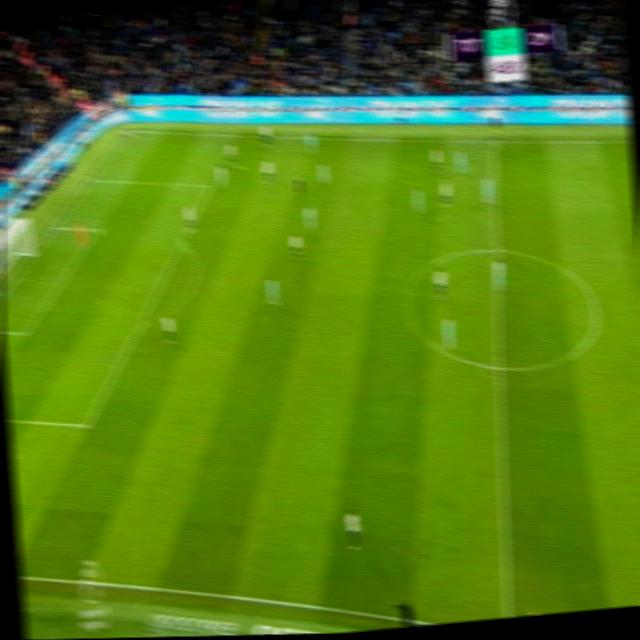bigarea_bottom_inner: (76, 419, 94, 434)
bigarea_top_inner: (202, 178, 218, 190)
bigarea_top_outter: (84, 174, 96, 185)
bottom_arc_area_intersection: (129, 319, 147, 335)
corner: (119, 125, 136, 138)
halfcircle_bottom: (489, 359, 507, 376)
halfcircle_top: (487, 243, 505, 257)
midline_top_intersection: (486, 134, 501, 149)
smallarea_bottom_inner: (14, 325, 33, 339)
smallarea_top_inner: (90, 224, 103, 236)
smallarea_top_outter: (48, 218, 61, 236)
top_arc_area_intersection: (173, 235, 188, 251)
